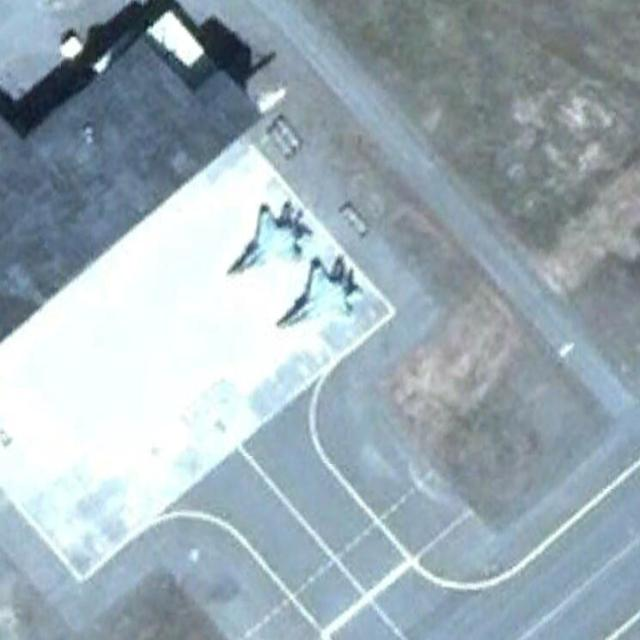fighter jet: (224, 196, 306, 278), (281, 258, 360, 328)
